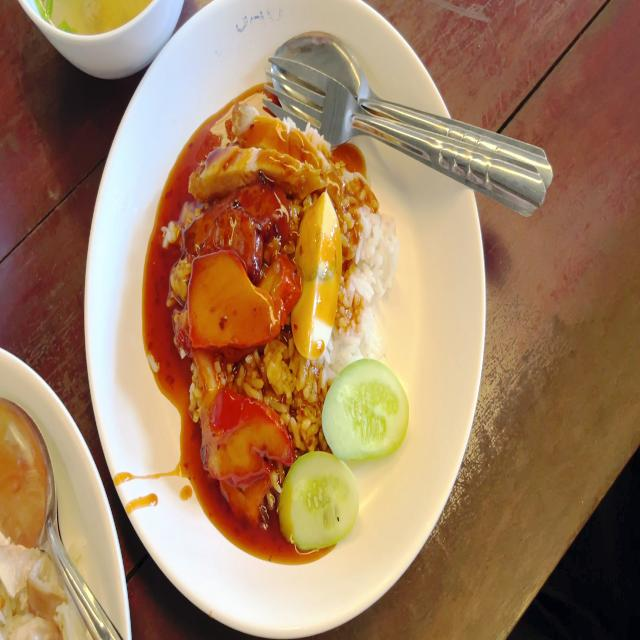boiled_egg: (293, 193, 342, 359)
chainese_sausage: (185, 191, 294, 263)
chicken_rice: (0, 512, 90, 640)
crispy_pork: (186, 106, 330, 198)
cucumber: (322, 356, 412, 461), (280, 452, 361, 549)
red_pork: (197, 391, 293, 522), (189, 252, 300, 347)
red_pork_and_crispy_pork: (165, 102, 413, 556)
